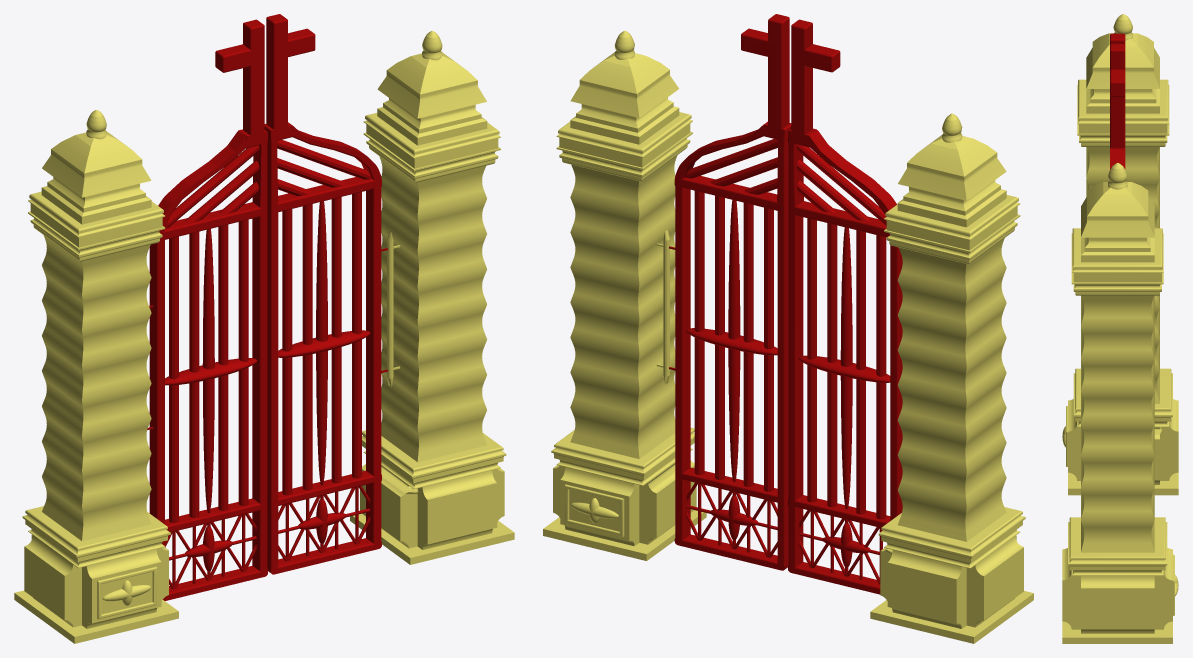
File: Gate(1).fbx
3 views of the same model, side by side, from view 1: azimuth 30°, elevation 25°; view 2: azimuth 150°, elevation 25°; view 3: azimuth 270°, elevation 25° (orthographic). The views are drawn at different scales.
Visible parts, largest first — view 1: pCube18 (×2), pCube19 (×2), pCylinder73 (×2), pCylinder74 (×2), pCylinder77 (×2), pSphere5 (×2), pCylinder75 (×2), pCylinder78 (×2), pSphere6 (×2), pCylinder79 (×2), pCylinder81; view 2: pCube18 (×2), pCube19 (×2), pCylinder75 (×2), pCylinder77 (×2), pSphere5 (×2), pCylinder73 (×2), pCylinder74 (×2), pCylinder78 (×2), pSphere6 (×2), pCylinder79 (×2), pCylinder81; view 3: pCube18 (×2), pCube19, pCylinder57 (×2).
Boxes of the visible parts, bbox=[...] form: pCube18 (×2): bbox=[14, 52, 514, 643]; pCube19 (×2): bbox=[149, 14, 381, 600]; pCylinder73 (×2): bbox=[238, 209, 292, 505]; pCylinder74 (×2): bbox=[189, 197, 341, 517]; pCylinder77 (×2): bbox=[218, 204, 312, 510]; pSphere5 (×2): bbox=[202, 201, 327, 512]; pCylinder75 (×2): bbox=[169, 192, 361, 522]; pCylinder78 (×2): bbox=[165, 139, 371, 228]; pSphere6 (×2): bbox=[165, 330, 370, 385]; pCylinder79 (×2): bbox=[184, 158, 345, 222]; pCylinder81: bbox=[387, 231, 393, 387]; pCube18 (×2): bbox=[543, 52, 1033, 643]; pCube19 (×2): bbox=[674, 14, 902, 594]; pCylinder75 (×2): bbox=[694, 191, 886, 519]; pCylinder77 (×2): bbox=[743, 202, 837, 507]; pSphere5 (×2): bbox=[728, 200, 852, 509]; pCylinder73 (×2): bbox=[764, 207, 816, 502]; pCylinder74 (×2): bbox=[715, 195, 865, 514]; pCylinder78 (×2): bbox=[685, 139, 886, 225]; pSphere6 (×2): bbox=[686, 328, 890, 382]; pCylinder79 (×2): bbox=[710, 157, 870, 221]; pCylinder81: bbox=[663, 229, 669, 384]; pCube18 (×2): bbox=[1062, 33, 1178, 643]; pCube19: bbox=[1110, 44, 1125, 169]; pCylinder57 (×2): bbox=[1108, 14, 1132, 189].
Size of the model in its own units: 301 by 363 by 75.6.
